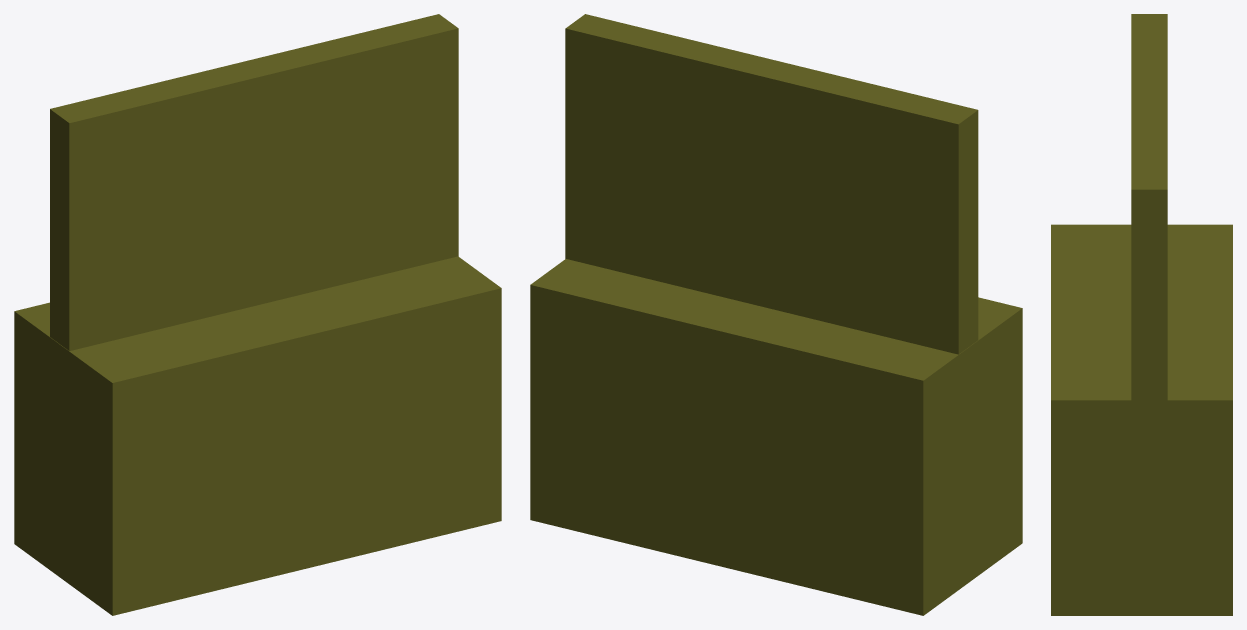
The model's file is blockout_Tv_Station.FBX.
The picture shows the model from 3 angles, left to right: view 1: azimuth 30°, elevation 25°; view 2: azimuth 150°, elevation 25°; view 3: azimuth 270°, elevation 25°; orthographic projection. The views are drawn at different scales.
Visible parts, largest first — view 1: blockout_Tv_Station; view 2: blockout_Tv_Station; view 3: blockout_Tv_Station.
Boxes of the visible parts, x1,y1,x2,y2 form: blockout_Tv_Station: [14, 14, 501, 615]; blockout_Tv_Station: [530, 14, 1022, 615]; blockout_Tv_Station: [1051, 14, 1232, 615].
Bounding box in the file's own units: 66.07 × 74.68 × 28.85.
1 material, 1 textured.
